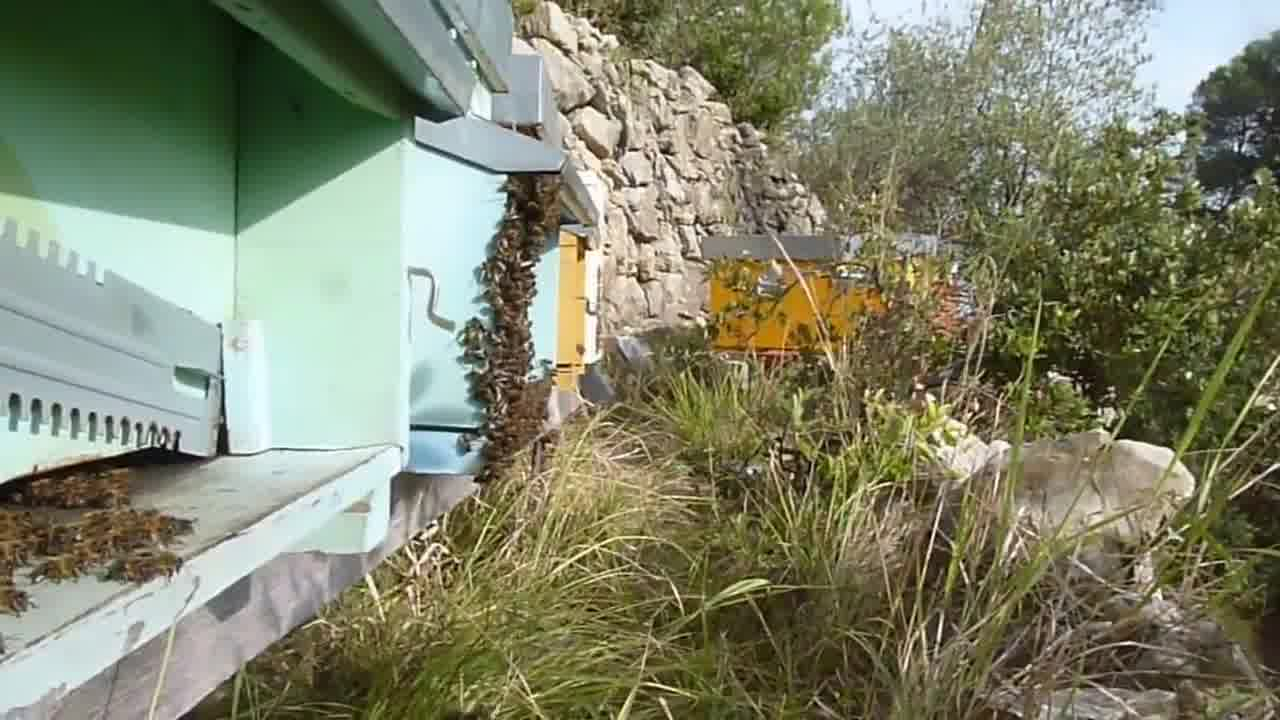bee: (1, 511, 71, 613), (461, 383, 547, 465), (455, 318, 543, 386), (96, 538, 193, 596), (477, 243, 542, 317), (36, 466, 129, 513), (73, 513, 201, 545), (502, 173, 556, 247)
